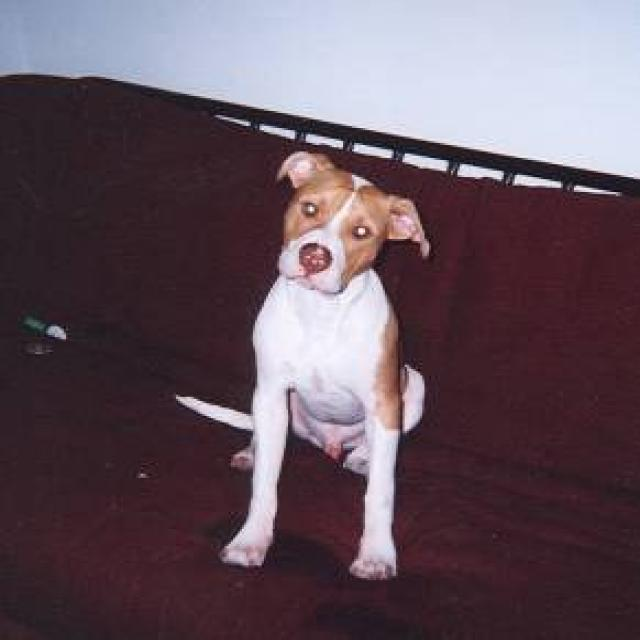dog-american_pit_bull_terrier: (169, 141, 433, 580)
